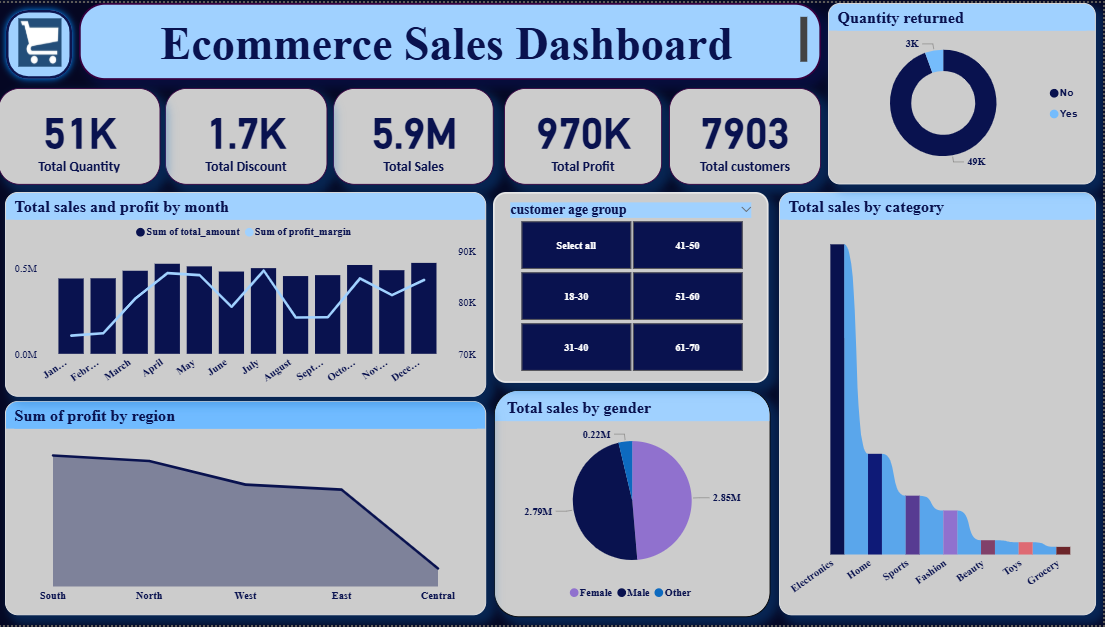

What the dashboard file says about the page in this screenshot:
{"tool":"powerbi","page":{"name":"Page 1","canvas":[1280,720],"ordinal":0},"visuals":[{"type":"textbox","box":[93.8,0,858.9,89.1],"z":0},{"type":"card","fields":{"Values":["Sum(ecommerce_sales_34500.total_amount)"]},"box":[387.8,98.4,186.4,112.3],"z":1000},{"type":"card","fields":{"Values":["Sum(ecommerce_sales_34500.discount)"]},"box":[193.3,98.4,187.5,112.3],"z":2000},{"type":"card","fields":{"Values":["Sum(ecommerce_sales_34500.quantity)"]},"box":[0,98.4,187.5,112.3],"z":3000},{"type":"card","fields":{"Values":["Sum(ecommerce_sales_34500.profit_margin)"]},"box":[585.7,98.4,182.9,112.3],"z":4000},{"type":"pieChart","title":"Total sales by gender","fields":{"Category":["ecommerce_sales_34500.customer_gender"],"Y":["Sum(ecommerce_sales_34500.total_amount)"]},"box":[573.7,448,320,263],"z":5000},{"type":"card","fields":{"Values":["Count(ecommerce_sales_34500.customer_id)"]},"box":[776.7,98.4,175.9,112.3],"z":6000},{"type":"stackedAreaChart","title":"Sum of profit by region","fields":{"Category":["ecommerce_sales_34500.region"],"Y":["Sum(ecommerce_sales_34500.profit_margin)"]},"box":[8.1,460.7,556.8,247.7],"z":7000},{"type":"lineStackedColumnComboChart","title":"Total sales and profit  by  month","fields":{"Category":["ecommerce_sales_34500.order_date.Variation.Date Hierarchy.Year","ecommerce_sales_34500.order_date.Variation.Date Hierarchy.Quarter","ecommerce_sales_34500.order_date.Variation.Date Hierarchy.Month","ecommerce_sales_34500.order_date.Variation.Date Hierarchy.Day"],"Y":["Sum(ecommerce_sales_34500.total_amount)"],"Y2":["Sum(ecommerce_sales_34500.profit_margin)"]},"box":[8.1,218.8,556.8,237.3],"z":8000},{"type":"slicer","fields":{"Values":["ecommerce_sales_34500.customer_age group"]},"box":[573,218.8,319.5,221.1],"z":9000},{"type":"ribbonChart","title":"Total sales by category","fields":{"Category":["ecommerce_sales_34500.category"],"Y":["Sum(ecommerce_sales_34500.total_amount)"]},"box":[904.1,218.8,366.9,489.6],"z":10000},{"type":"donutChart","title":"Quantity returned","fields":{"Category":["ecommerce_sales_34500.returned"],"Y":["Sum(ecommerce_sales_34500.quantity)"]},"box":[961.1,0,309.7,210.3],"z":11000},{"type":"shape","box":[1.6,0,92.7,95.8],"z":12000},{"type":"image","box":[18.8,12.6,59.7,66],"z":13000}]}

Visuals, with their boxes in screenshot pixels (x1, y1, x2, y2), scaled from the page's 1280x720 canvas onto the 1105x627 screenshot:
textbox: BBox(81, 0, 822, 78)
card - Sum(ecommerce_sales_34500.total_amount): BBox(335, 86, 496, 183)
card - Sum(ecommerce_sales_34500.discount): BBox(167, 86, 329, 183)
card - Sum(ecommerce_sales_34500.quantity): BBox(0, 86, 162, 183)
card - Sum(ecommerce_sales_34500.profit_margin): BBox(506, 86, 664, 183)
"Total sales by gender" pieChart: BBox(495, 390, 772, 619)
card - Count(ecommerce_sales_34500.customer_id): BBox(671, 86, 822, 183)
"Sum of profit by region" stackedAreaChart: BBox(7, 401, 488, 617)
"Total sales and profit  by  month" lineStackedColumnComboChart: BBox(7, 191, 488, 397)
slicer - ecommerce_sales_34500.customer_age group: BBox(495, 191, 770, 383)
"Total sales by category" ribbonChart: BBox(780, 191, 1097, 617)
"Quantity returned" donutChart: BBox(830, 0, 1097, 183)
shape: BBox(1, 0, 81, 83)
image: BBox(16, 11, 68, 68)
